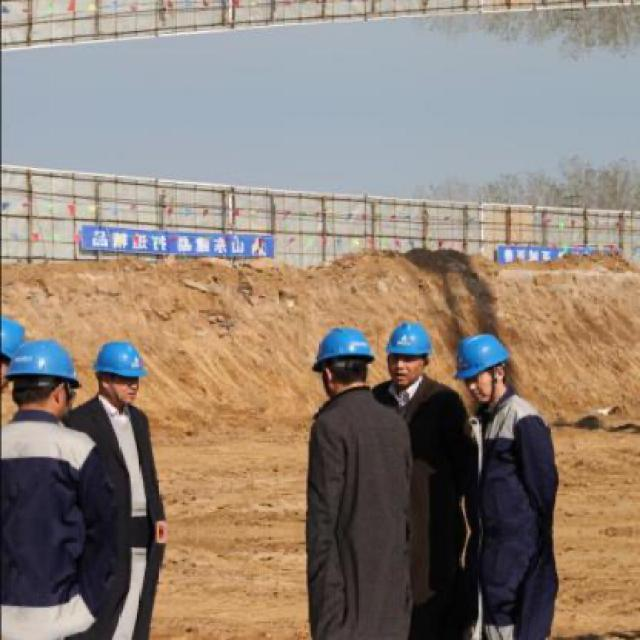helmet: (10, 335, 84, 418), (314, 327, 375, 399), (458, 333, 522, 401), (95, 338, 148, 408), (385, 321, 432, 387), (3, 312, 28, 402)
